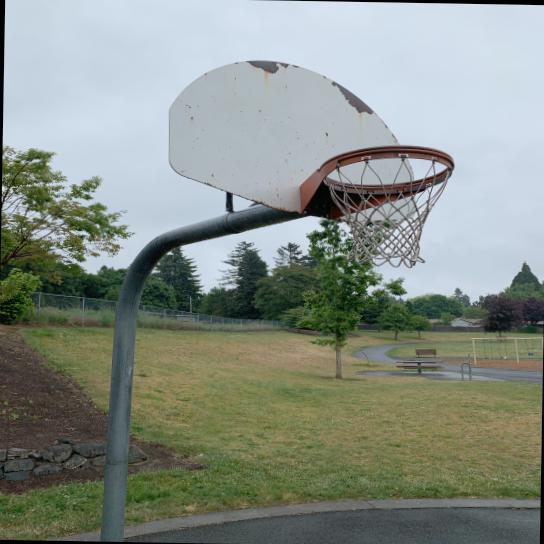basketball-hoop: (311, 140, 458, 272)
